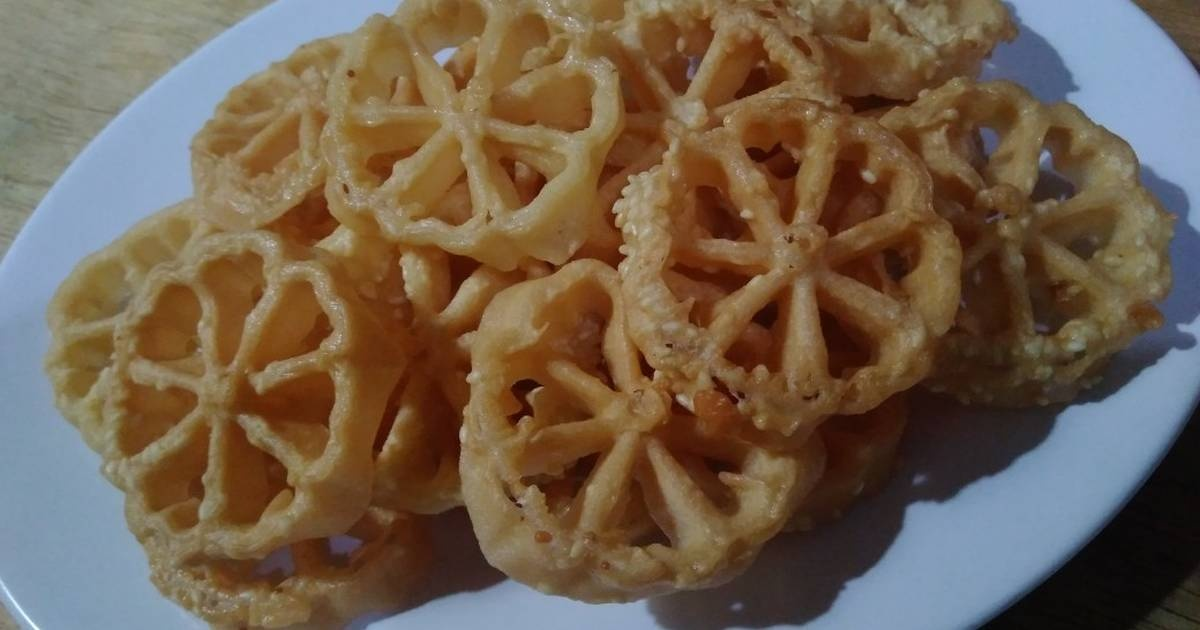kembang_goyang: (623, 85, 958, 433), (85, 241, 413, 559)
